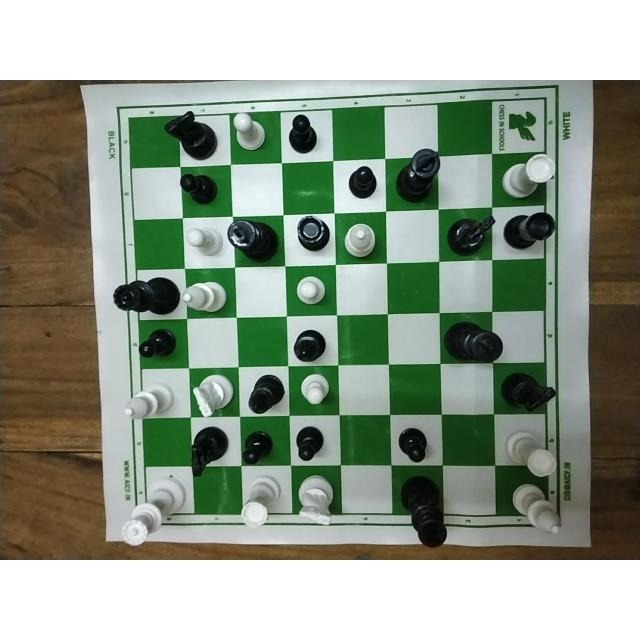black-bishop: (244, 371, 285, 413), (291, 327, 329, 363)
black-king: (399, 475, 449, 547), (444, 320, 504, 364), (227, 217, 280, 264), (395, 148, 440, 203)
black-knight: (162, 109, 218, 160), (499, 371, 559, 413), (187, 426, 228, 480), (445, 215, 495, 256)
black-pawn: (396, 425, 431, 463), (287, 114, 318, 154), (345, 164, 379, 200), (241, 429, 275, 465), (138, 328, 176, 360), (292, 425, 325, 461), (181, 173, 217, 206)
black-queen: (111, 276, 179, 315)
black-rook: (502, 213, 557, 249), (294, 214, 330, 252)
white-bishop: (510, 482, 562, 535), (119, 382, 178, 422), (180, 279, 228, 313), (341, 222, 376, 257)
white-knight: (292, 474, 336, 526), (190, 372, 234, 420)
white-pawn: (231, 110, 267, 152), (186, 224, 224, 258), (297, 374, 329, 408), (295, 274, 325, 305)
white-queen: (121, 477, 187, 545)
white-rook: (505, 428, 559, 476), (502, 153, 556, 197), (242, 474, 281, 529)
